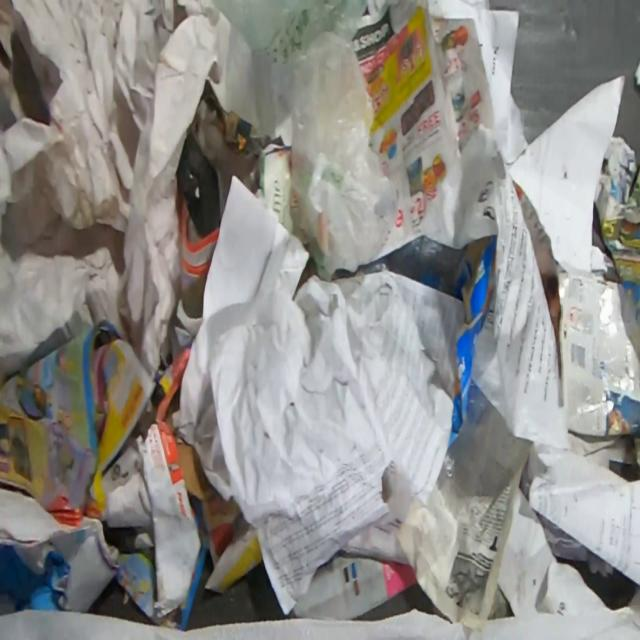cardboard: (133, 417, 217, 620), (421, 233, 497, 449)
soft_plastic: (210, 0, 402, 279)
